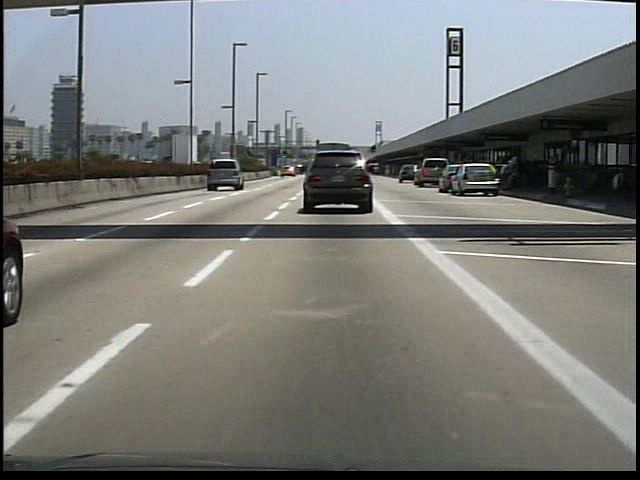person: (505, 150, 529, 192)
